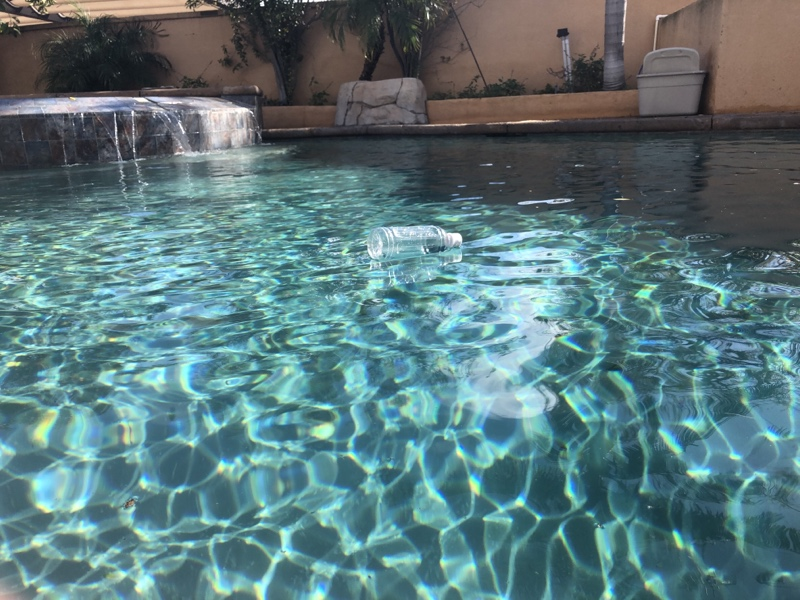Plastic Bottle: (365, 223, 467, 262)
